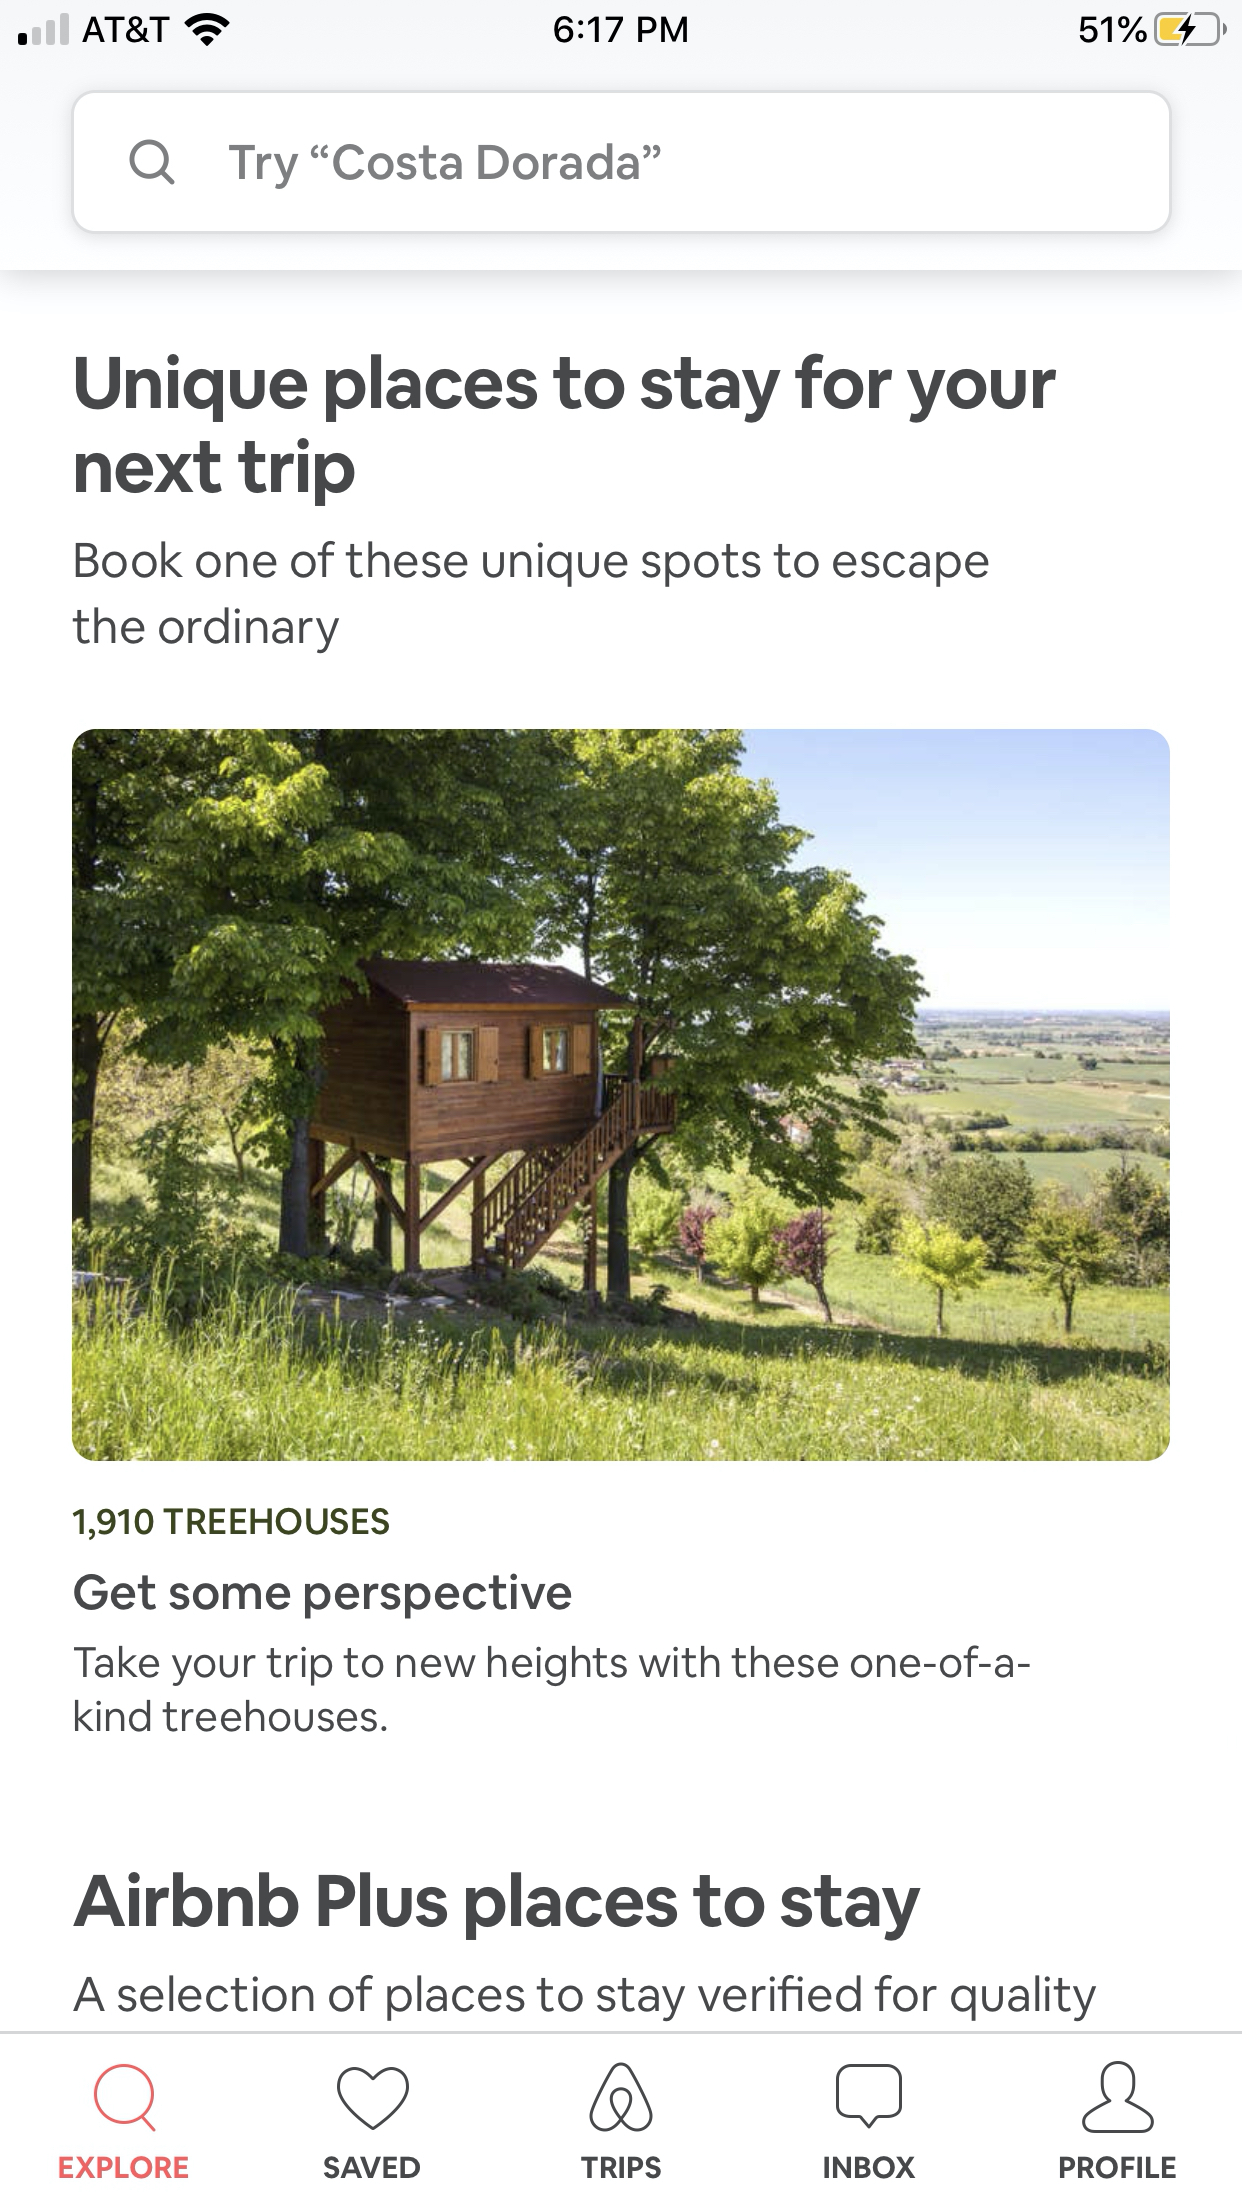EditText: (71, 91, 1172, 235)
Icon: (1081, 2059, 1156, 2134), (337, 2065, 409, 2131), (836, 2062, 902, 2129), (94, 2064, 158, 2132), (130, 140, 176, 187)
Image: (71, 729, 1171, 1462), (588, 2062, 654, 2132)
Text: (76, 353, 1057, 507), (73, 541, 989, 654), (74, 1644, 1031, 1733), (74, 1871, 922, 1941), (73, 1974, 1096, 2021), (74, 1574, 572, 1620), (231, 144, 663, 191), (73, 1507, 390, 1541), (59, 2155, 190, 2179), (1059, 2155, 1175, 2179), (823, 2155, 916, 2179), (325, 2156, 422, 2179), (581, 2156, 663, 2179)
UpperTaskBar: (2, 2, 1242, 49)
